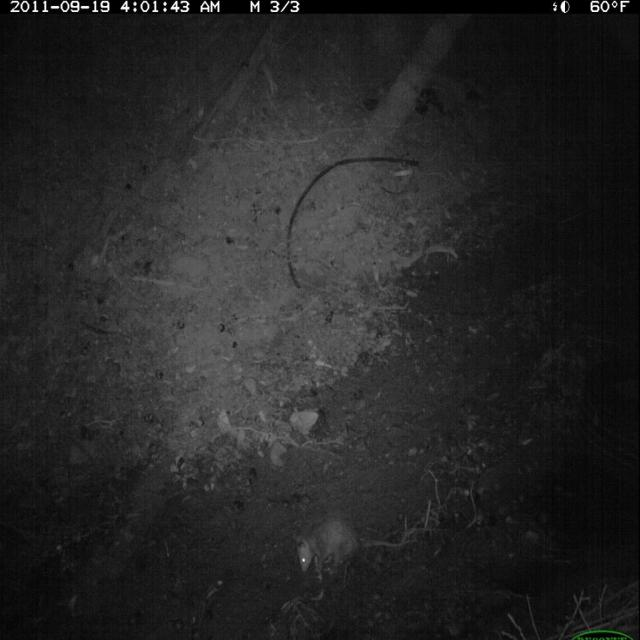opossum: (288, 508, 419, 585)
